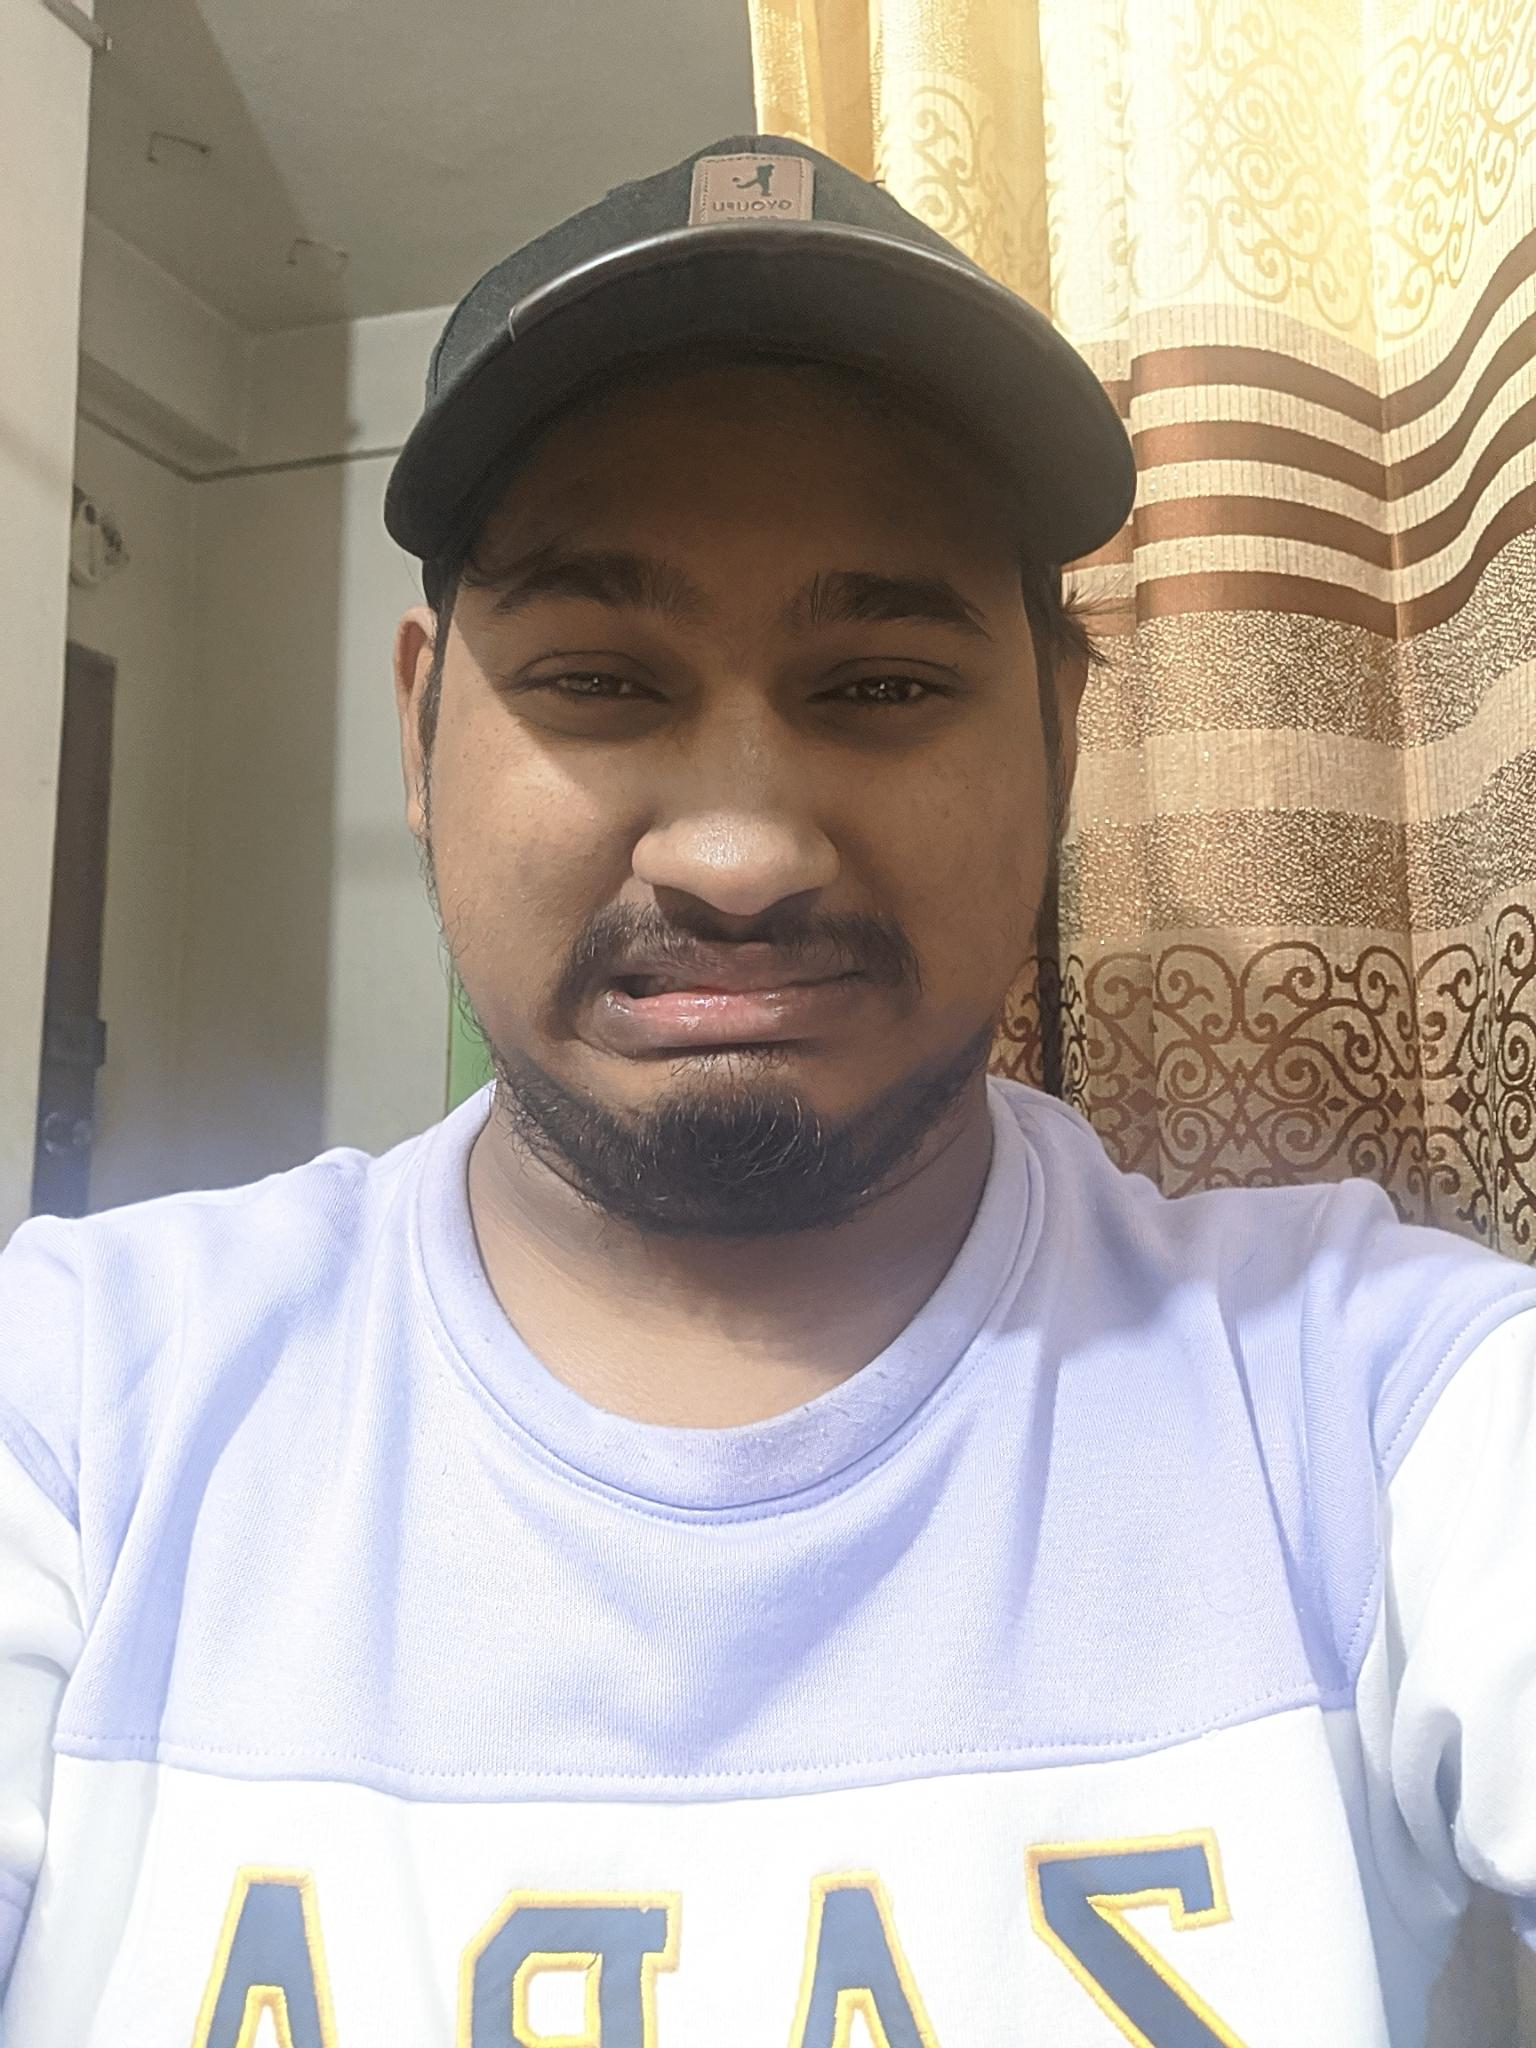Disgust: (434, 461, 1042, 1190)
